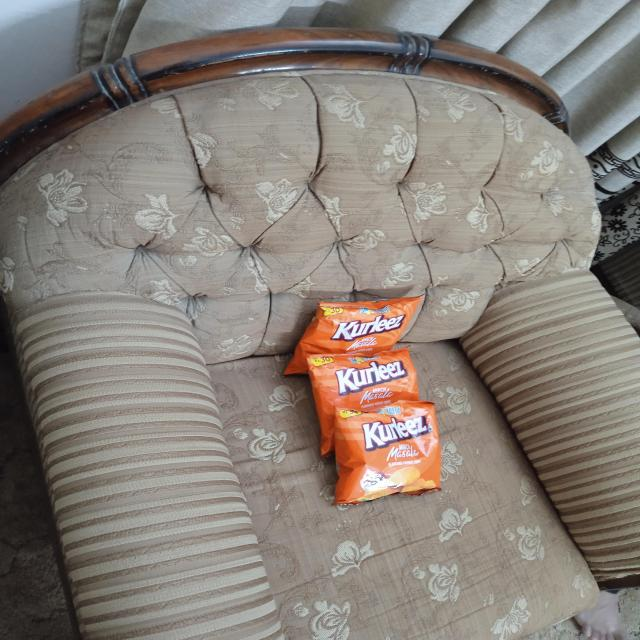Plastic: (341, 411, 442, 497), (300, 300, 418, 354), (310, 356, 422, 406)
